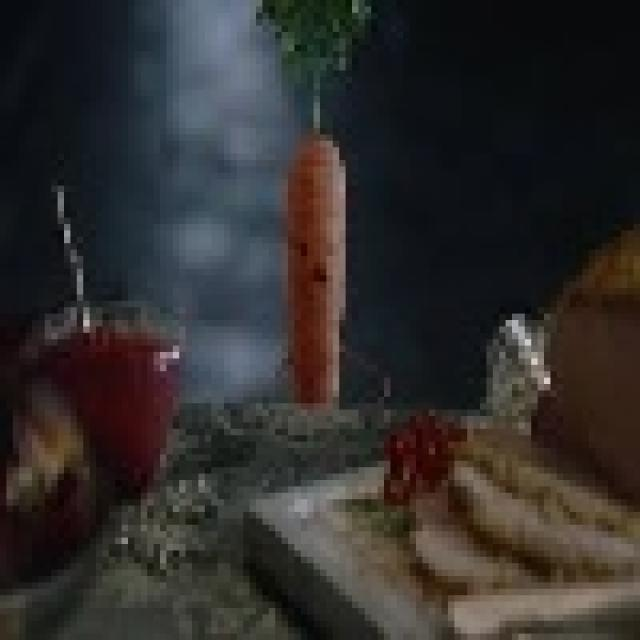Stale_Carrot: (272, 136, 360, 422)
